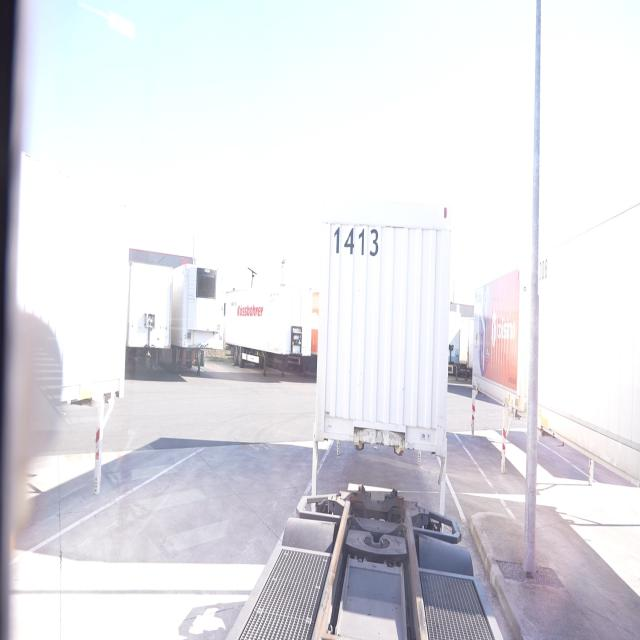Code: (330, 218, 381, 264)
